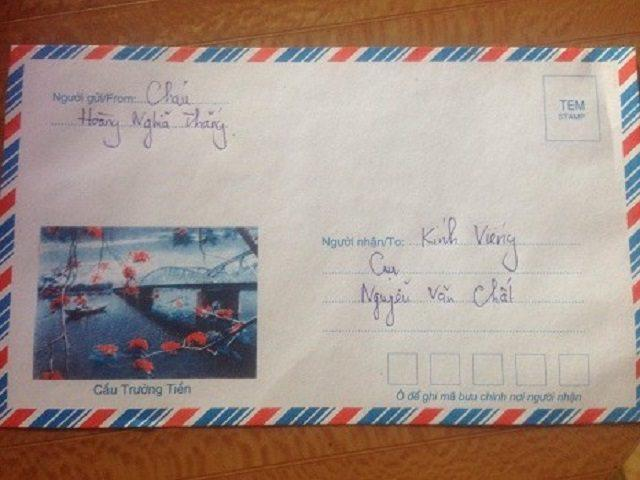text: (318, 213, 520, 276), (359, 275, 515, 329), (76, 105, 236, 153), (49, 77, 194, 110), (394, 388, 584, 406), (92, 378, 194, 398), (367, 250, 403, 282), (557, 97, 588, 113), (555, 111, 588, 122)
